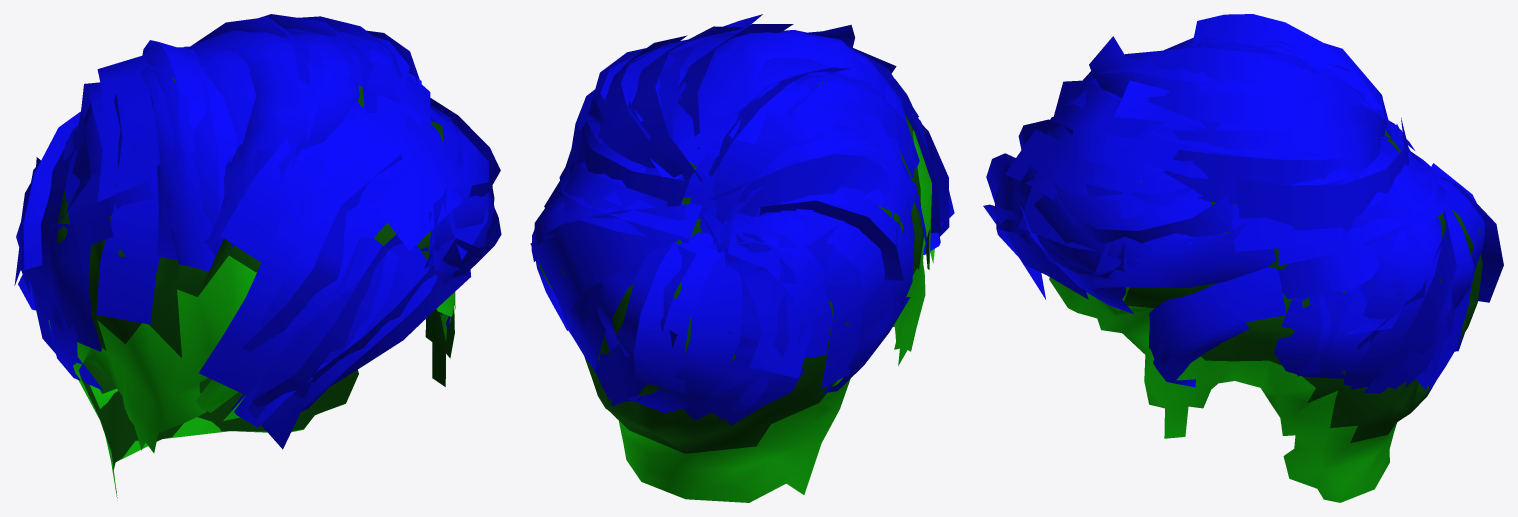
The model's file is hair_004.obj.
3 views of the same model, side by side, from view 1: azimuth 30°, elevation 25°; view 2: azimuth 150°, elevation 25°; view 3: azimuth 270°, elevation 25° (orthographic). The views are drawn at different scales.
Bounding box in the file's own units: 18.8 × 21.82 × 23.76.
